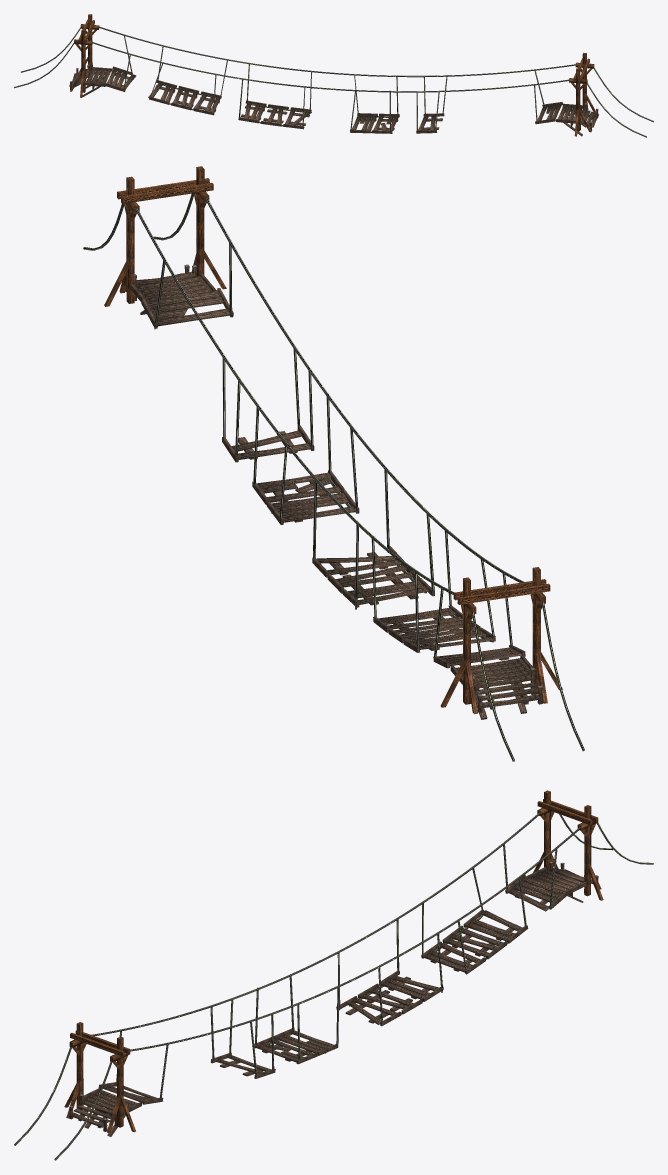
File: RM_PLAYSURFACE_FINAL_RM_SUSPENSION_BRIDGE.fbx
3 renders of one model, top to bottom at view 1: azimuth 30°, elevation 25°; view 2: azimuth 150°, elevation 25°; view 3: azimuth 270°, elevation 25°, orthographic. The views are drawn at different scales.
Visible parts, largest first — view 1: RM_PLAYSURFACE_FINAL_RM_SUSPENSION_BRIDGE; view 2: RM_PLAYSURFACE_FINAL_RM_SUSPENSION_BRIDGE; view 3: RM_PLAYSURFACE_FINAL_RM_SUSPENSION_BRIDGE.
Boxes of the visible parts, box(x1,y1,x2,y2) form: RM_PLAYSURFACE_FINAL_RM_SUSPENSION_BRIDGE: box(14, 14, 653, 137); RM_PLAYSURFACE_FINAL_RM_SUSPENSION_BRIDGE: box(83, 166, 584, 761); RM_PLAYSURFACE_FINAL_RM_SUSPENSION_BRIDGE: box(14, 790, 653, 1160).
Bounding box in the file's own units: 378514 × 65977 × 329045.
4 materials, 4 textured.
